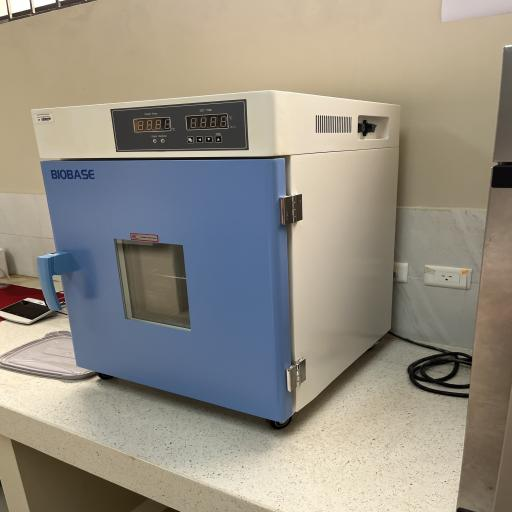Horno_Secado_Biobase: (27, 90, 421, 434)
